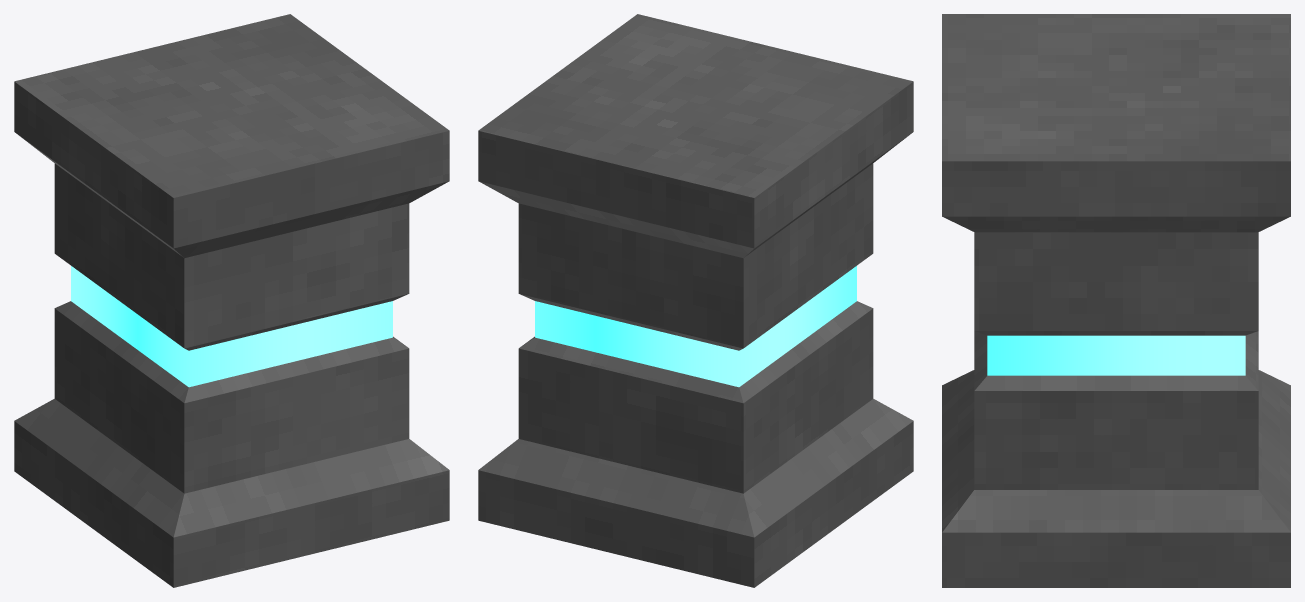
File: RetroHealthPack.fbx
3 renders of one model, left to right at view 1: azimuth 30°, elevation 25°; view 2: azimuth 150°, elevation 25°; view 3: azimuth 270°, elevation 25°, orthographic. The views are drawn at different scales.
Parts seen in each view (by area): view 1: Cube, Cube.001; view 2: Cube, Cube.001; view 3: Cube, Cube.001.
Part boxes in pixels (left/top/right/bottom): Cube: left=14, top=14, right=449, bottom=587; Cube.001: left=71, top=266, right=392, bottom=387; Cube: left=478, top=14, right=913, bottom=587; Cube.001: left=535, top=266, right=856, bottom=387; Cube: left=942, top=14, right=1290, bottom=587; Cube.001: left=987, top=335, right=1245, bottom=375.
Size of the model in its own units: 123 by 166 by 123.
